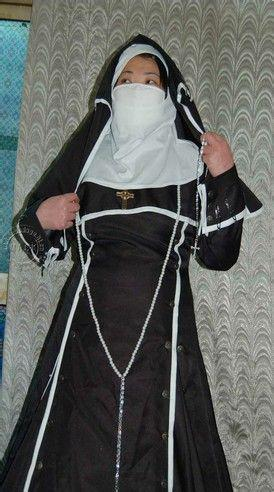OK: (114, 65, 163, 124)
